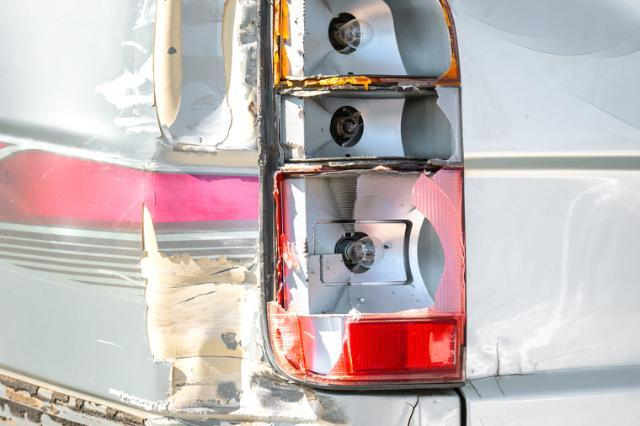Fender: (98, 8, 277, 425)
Light: (276, 0, 468, 378)
